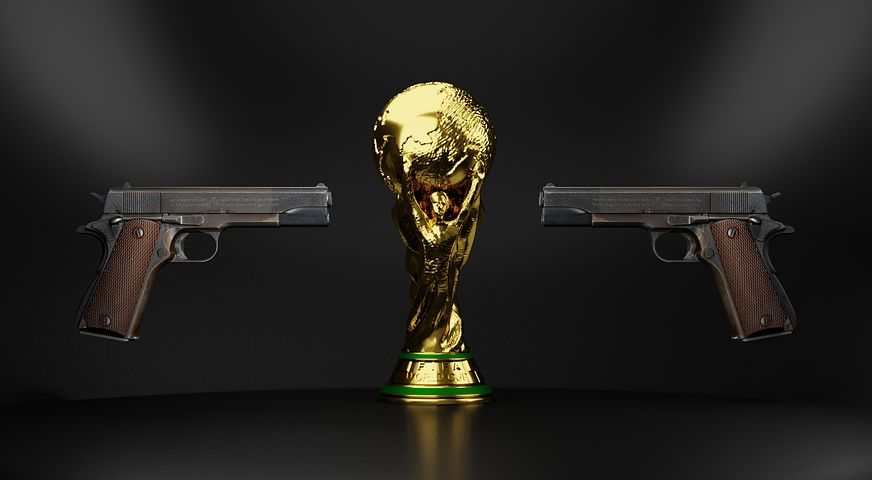gun: (47, 162, 360, 357), (532, 168, 827, 348)
